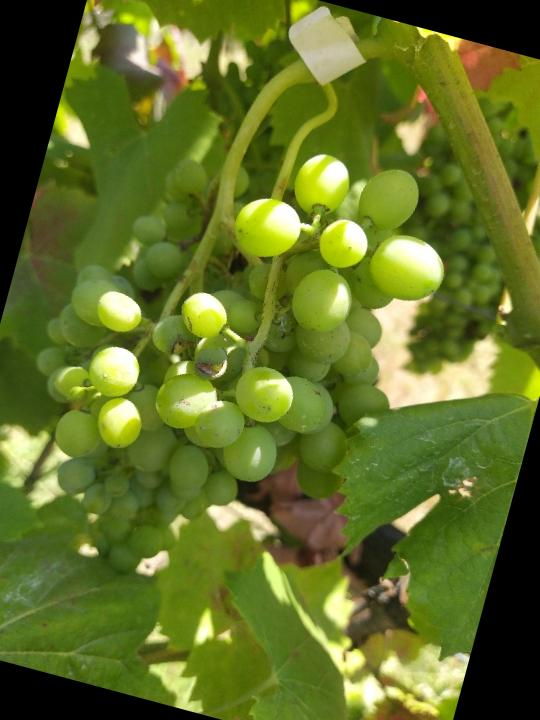grape: (0, 87, 473, 637)
